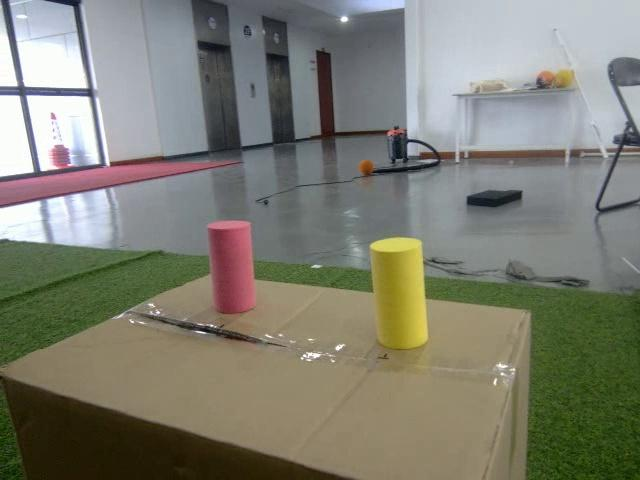red_cylinder: (206, 219, 256, 316)
yellow_cylinder: (368, 237, 432, 348)
